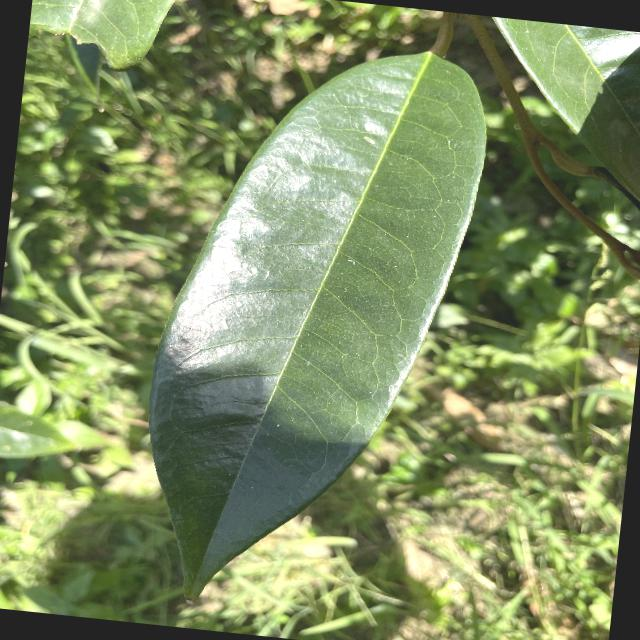No Disease: (110, 11, 505, 639)
